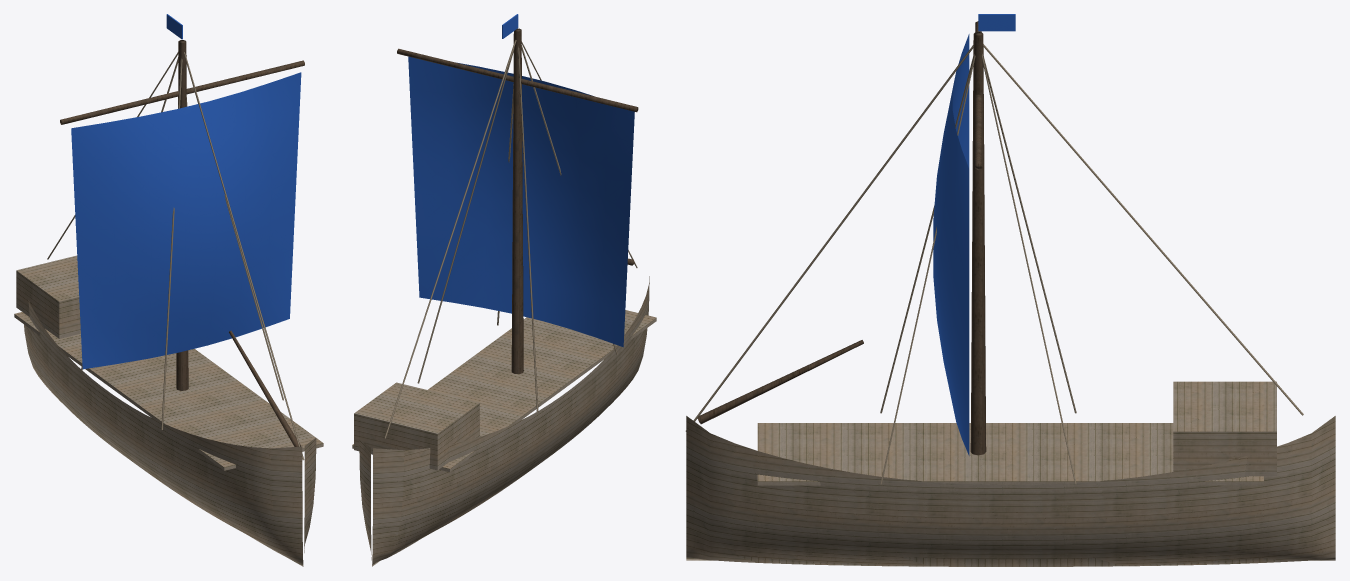
Rendered from ship_1.glb.
The picture shows the model from 3 angles, left to right: view 1: azimuth 30°, elevation 25°; view 2: azimuth 150°, elevation 25°; view 3: azimuth 270°, elevation 25°; orthographic projection. The views are drawn at different scales.
Parts seen in each view (by area): view 1: ship_1; view 2: ship_1; view 3: ship_1.
Boxes of the visible parts, x1,y1,x2,y2 form: ship_1: (14, 14, 323, 566); ship_1: (352, 14, 656, 566); ship_1: (685, 14, 1335, 566).
Size of the model in its own units: 10.92 by 19.5 by 21.03.
Materials: 6 (5 with a texture image).
